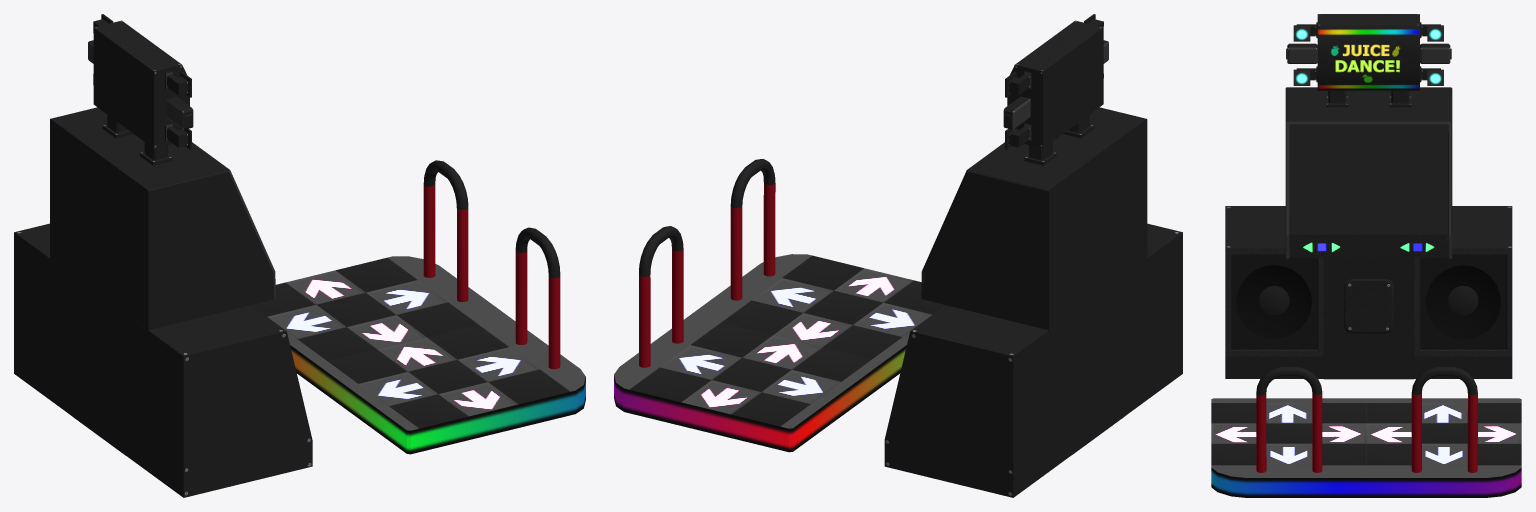
The model's file is DanceMachine.DEF.glb.
3 views of the same model, side by side, from view 1: azimuth 30°, elevation 25°; view 2: azimuth 150°, elevation 25°; view 3: azimuth 270°, elevation 25° (orthographic). The views are drawn at different scales.
Parts seen in each view (by area): view 1: Bottom.001, PistaB.001, DanceMachine.005, DanceMachine.006, Barandilla.001, DanceMachine.003; view 2: Bottom.001, PistaB.001, DanceMachine.005, DanceMachine.006, Barandilla.001, DanceMachine.003; view 3: PistaB.001, DanceMachine.005, Bottom.001, Alt.001, DanceMachine.006, Barandilla.001, DanceMachine.003.
Boxes of the visible parts, x1,y1,x2,y2 form: Bottom.001: [14, 223, 312, 497]; PistaB.001: [252, 256, 585, 454]; DanceMachine.005: [50, 107, 275, 330]; DanceMachine.006: [93, 20, 189, 165]; Barandilla.001: [423, 160, 560, 369]; DanceMachine.003: [88, 14, 193, 149]; Bottom.001: [884, 223, 1182, 497]; PistaB.001: [614, 254, 944, 452]; DanceMachine.005: [921, 107, 1147, 330]; DanceMachine.006: [1007, 20, 1103, 165]; Barandilla.001: [639, 159, 775, 367]; DanceMachine.003: [1003, 14, 1108, 149]; PistaB.001: [1211, 398, 1521, 497]; DanceMachine.005: [1285, 87, 1452, 258]; Bottom.001: [1225, 206, 1512, 379]; Alt.001: [1231, 254, 1506, 349]; DanceMachine.006: [1317, 14, 1419, 107]; Barandilla.001: [1256, 366, 1477, 472]; DanceMachine.003: [1286, 22, 1451, 85].
Size of the model in its own units: 2.7 by 2.42 by 2.09.
6 materials, 6 textured.
